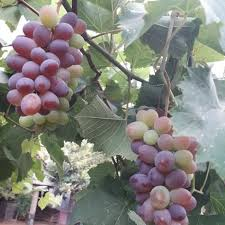anggur: (1, 3, 96, 126), (127, 106, 199, 225)
